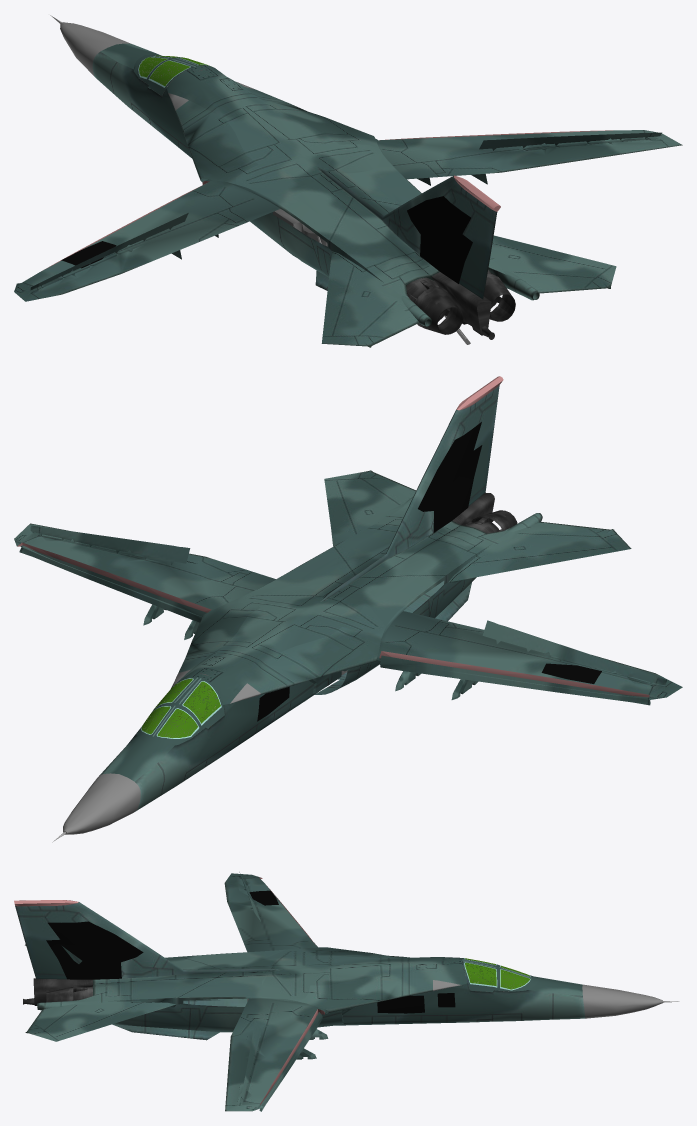
3 renders of one model, top to bottom at view 1: azimuth 30°, elevation 25°; view 2: azimuth 150°, elevation 25°; view 3: azimuth 270°, elevation 25°, orthographic. The views are drawn at different scales.
Parts seen in each view (by area): view 1: body|F111top-FACES, body|F111down-FACES, body|F111tail-FACES, body|F111burn-FACES, body|F111uh_l-FACES, body|F111blck-FACES, body|F111red-FACES, body|F111star2-FACES, body|F111cpy1-FACES, body|F111gls4-FACES; view 2: body|F111top-FACES, body|F111down-FACES, body|F111tail-FACES, body|F111blck-FACES, body|F111uh_l-FACES, body|F111red-FACES, body|F111burn-FACES, body|F111cpy1-FACES, body|F111piz-FACES, body|F111gls4-FACES, body|F111star2-FACES, body|F111gls2-FACES; view 3: body|F111top-FACES, body|F111down-FACES, body|F111tail-FACES, body|F111uh_r-FACES, body|F111blck-FACES, body|F111burn-FACES, body|F111red-FACES, body|F111star-FACES, body|F111cpy1-FACES, body|F111gls3-FACES, body|F111gls1-FACES.
Part boxes in pixels (x1=…): body|F111top-FACES: x1=14, y1=43, x2=682, y2=347; body|F111down-FACES: x1=92, y1=51, x2=416, y2=290; body|F111tail-FACES: x1=318, y1=167, x2=497, y2=299; body|F111burn-FACES: x1=406, y1=270, x2=515, y2=339; body|F111uh_l-FACES: x1=407, y1=196, x2=472, y2=283; body|F111blck-FACES: x1=60, y1=22, x2=470, y2=344; body|F111red-FACES: x1=42, y1=130, x2=612, y2=270; body|F111star2-FACES: x1=61, y1=241, x2=116, y2=268; body|F111cpy1-FACES: x1=137, y1=55, x2=209, y2=95; body|F111gls4-FACES: x1=149, y1=60, x2=189, y2=86; body|F111top-FACES: x1=14, y1=470, x2=682, y2=781; body|F111down-FACES: x1=99, y1=577, x2=476, y2=811; body|F111tail-FACES: x1=320, y1=385, x2=499, y2=601; body|F111blck-FACES: x1=63, y1=670, x2=347, y2=834; body|F111uh_l-FACES: x1=418, y1=422, x2=482, y2=532; body|F111red-FACES: x1=17, y1=376, x2=649, y2=697; body|F111burn-FACES: x1=452, y1=492, x2=517, y2=533; body|F111cpy1-FACES: x1=139, y1=677, x2=224, y2=740; body|F111piz-FACES: x1=143, y1=604, x2=478, y2=699; body|F111gls4-FACES: x1=183, y1=681, x2=220, y2=723; body|F111star2-FACES: x1=541, y1=663, x2=601, y2=683; body|F111gls2-FACES: x1=157, y1=709, x2=197, y2=738; body|F111top-FACES: x1=25, y1=872, x2=582, y2=1111; body|F111down-FACES: x1=112, y1=964, x2=585, y2=1040; body|F111tail-FACES: x1=15, y1=902, x2=282, y2=979; body|F111uh_r-FACES: x1=46, y1=921, x2=143, y2=979; body|F111blck-FACES: x1=247, y1=974, x2=662, y2=1018; body|F111burn-FACES: x1=23, y1=978, x2=92, y2=1005; body|F111red-FACES: x1=14, y1=877, x2=324, y2=1104; body|F111star-FACES: x1=377, y1=995, x2=424, y2=1013; body|F111cpy1-FACES: x1=462, y1=958, x2=531, y2=992; body|F111gls3-FACES: x1=465, y1=962, x2=496, y2=986; body|F111gls1-FACES: x1=500, y1=969, x2=530, y2=989.
Size of the model in its own units: 18.87 by 4.74 by 22.4.
98 materials, 12 textured.
